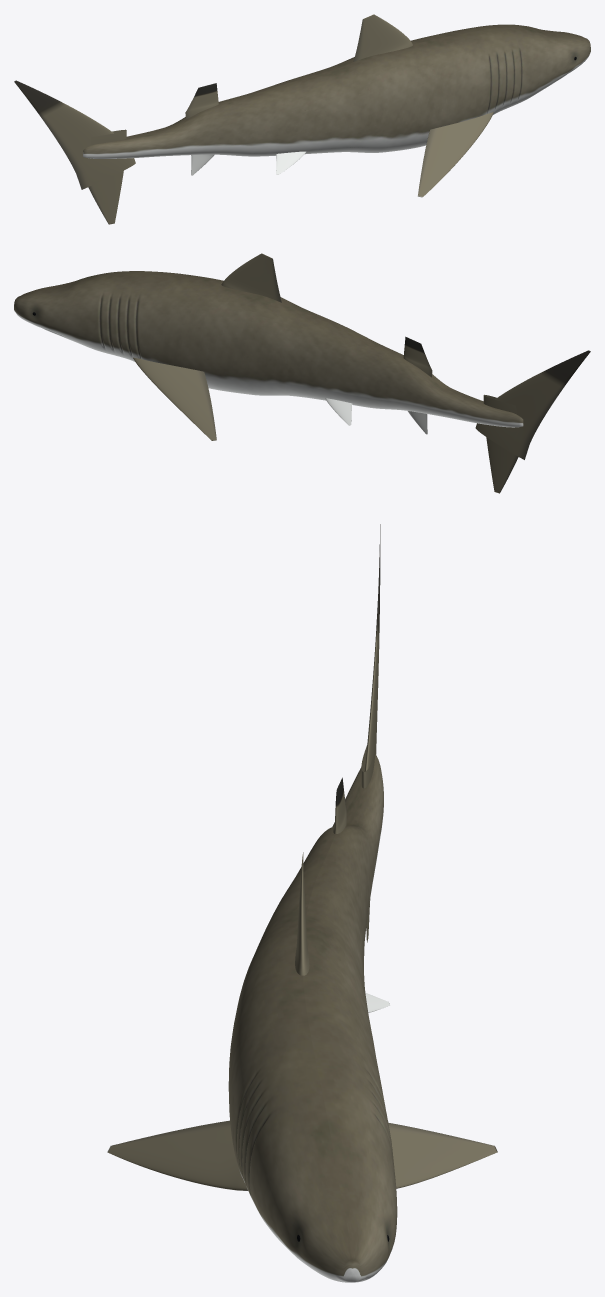
File: blacknose_shark.glb
The picture shows the model from 3 angles, top to bottom: view 1: azimuth 30°, elevation 25°; view 2: azimuth 150°, elevation 25°; view 3: azimuth 270°, elevation 25°; orthographic projection. The views are drawn at different scales.
Visible parts, largest first — view 1: blacknose_shark_Body, blacknose_shark_Fins; view 2: blacknose_shark_Body, blacknose_shark_Fins; view 3: blacknose_shark_Body, blacknose_shark_Fins.
Boxes of the visible parts, box(x1,y1,x2,y2) form: blacknose_shark_Body: box(83, 24, 590, 158); blacknose_shark_Fins: box(14, 14, 493, 224); blacknose_shark_Body: box(14, 271, 523, 427); blacknose_shark_Fins: box(133, 253, 590, 493); blacknose_shark_Body: box(228, 754, 397, 1282); blacknose_shark_Fins: box(107, 524, 497, 1190).
Bounding box in the file's own units: 1.3 × 0.3583 × 0.3871.
Materials: 3 (1 with a texture image).
